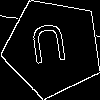U: (28, 23, 70, 74)
